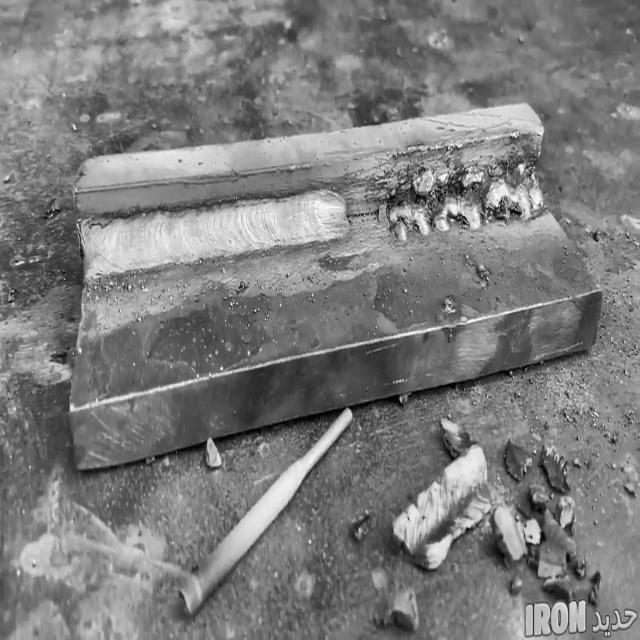Bad Welding: (383, 151, 548, 243)
Good Welding: (79, 184, 347, 294)
